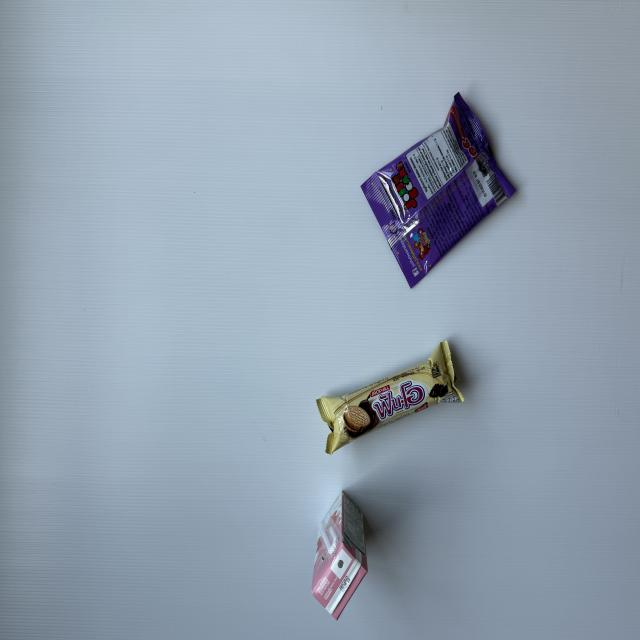candy: (358, 85, 522, 292)
cracker: (313, 337, 466, 460)
milk: (306, 484, 376, 626)
